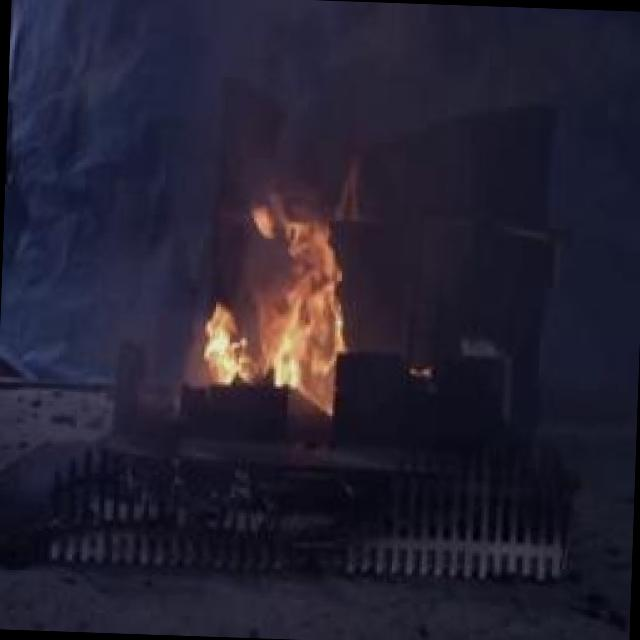fire: (168, 182, 382, 437)
